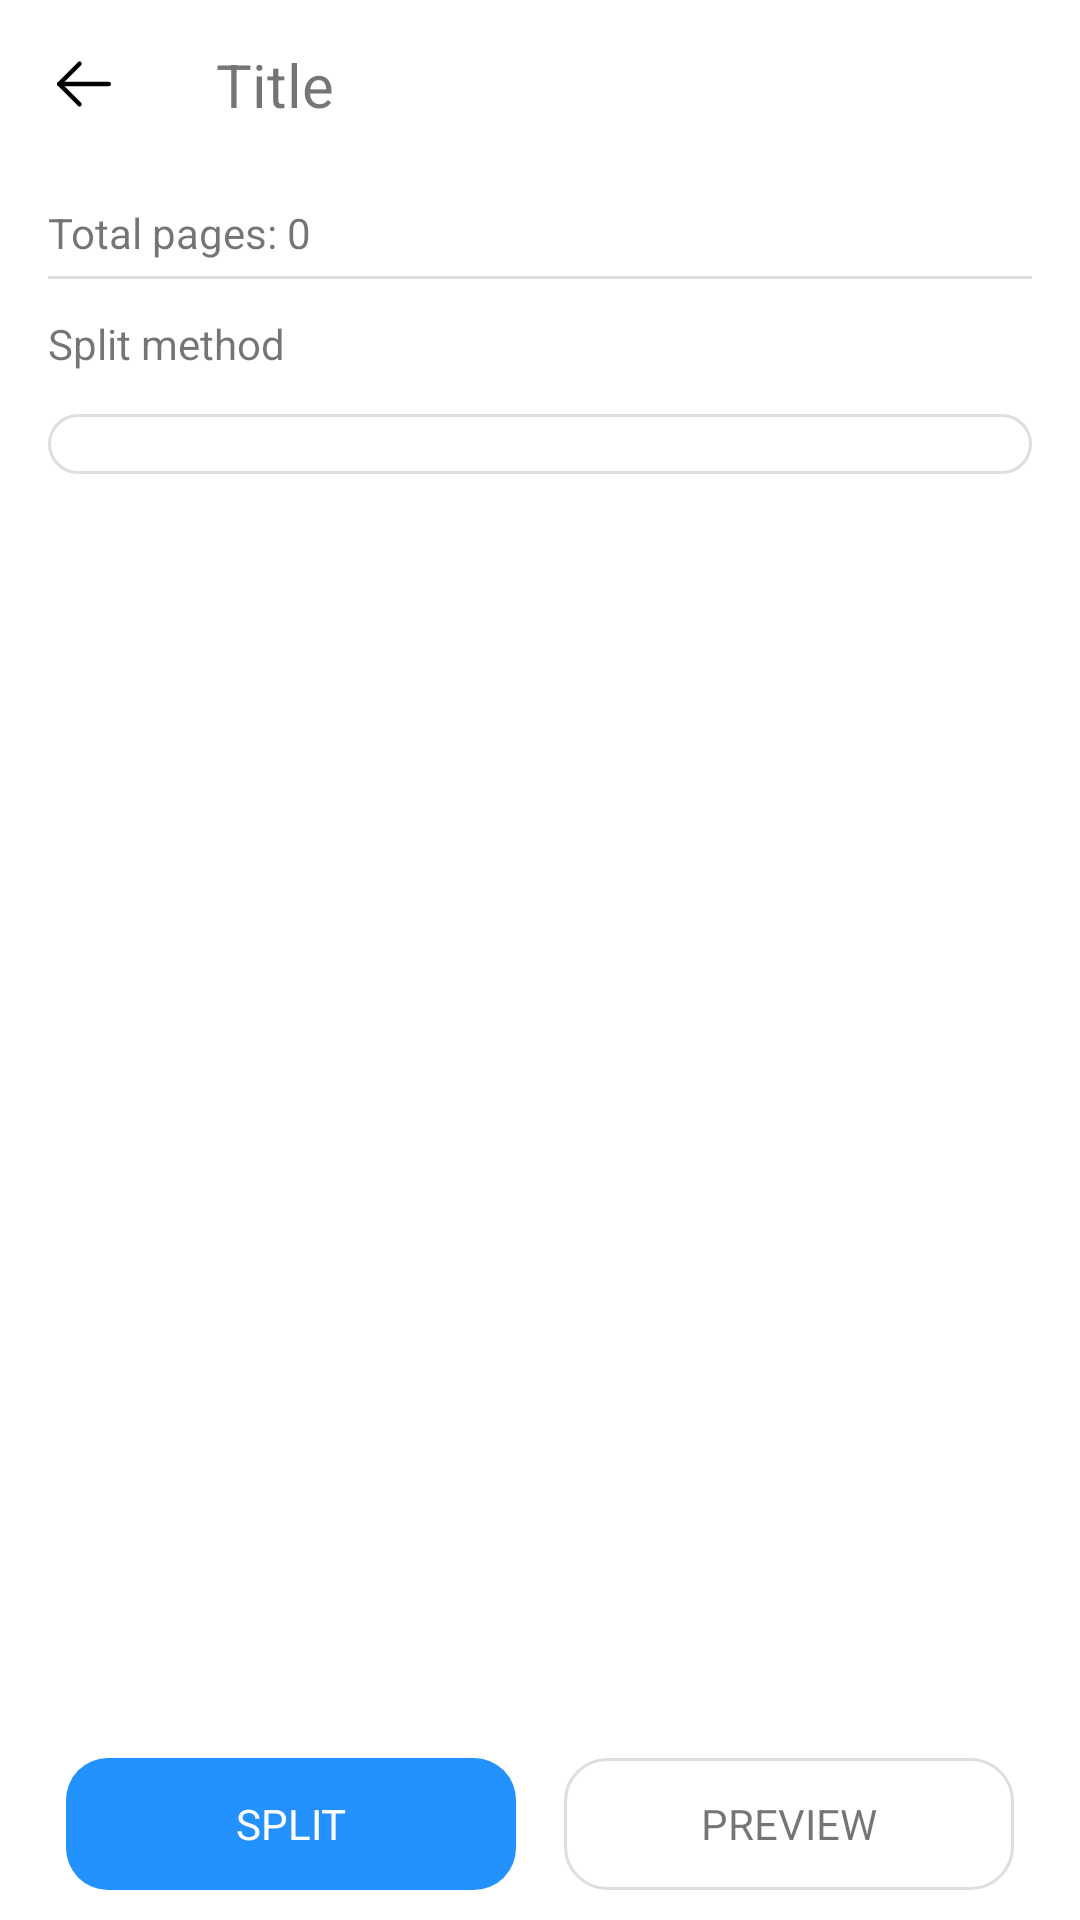

Screen size 1080×1920. Icon name, then its box in pixels as detection(x1, y1, x2, y2):
back: detection(57, 61, 111, 107)
